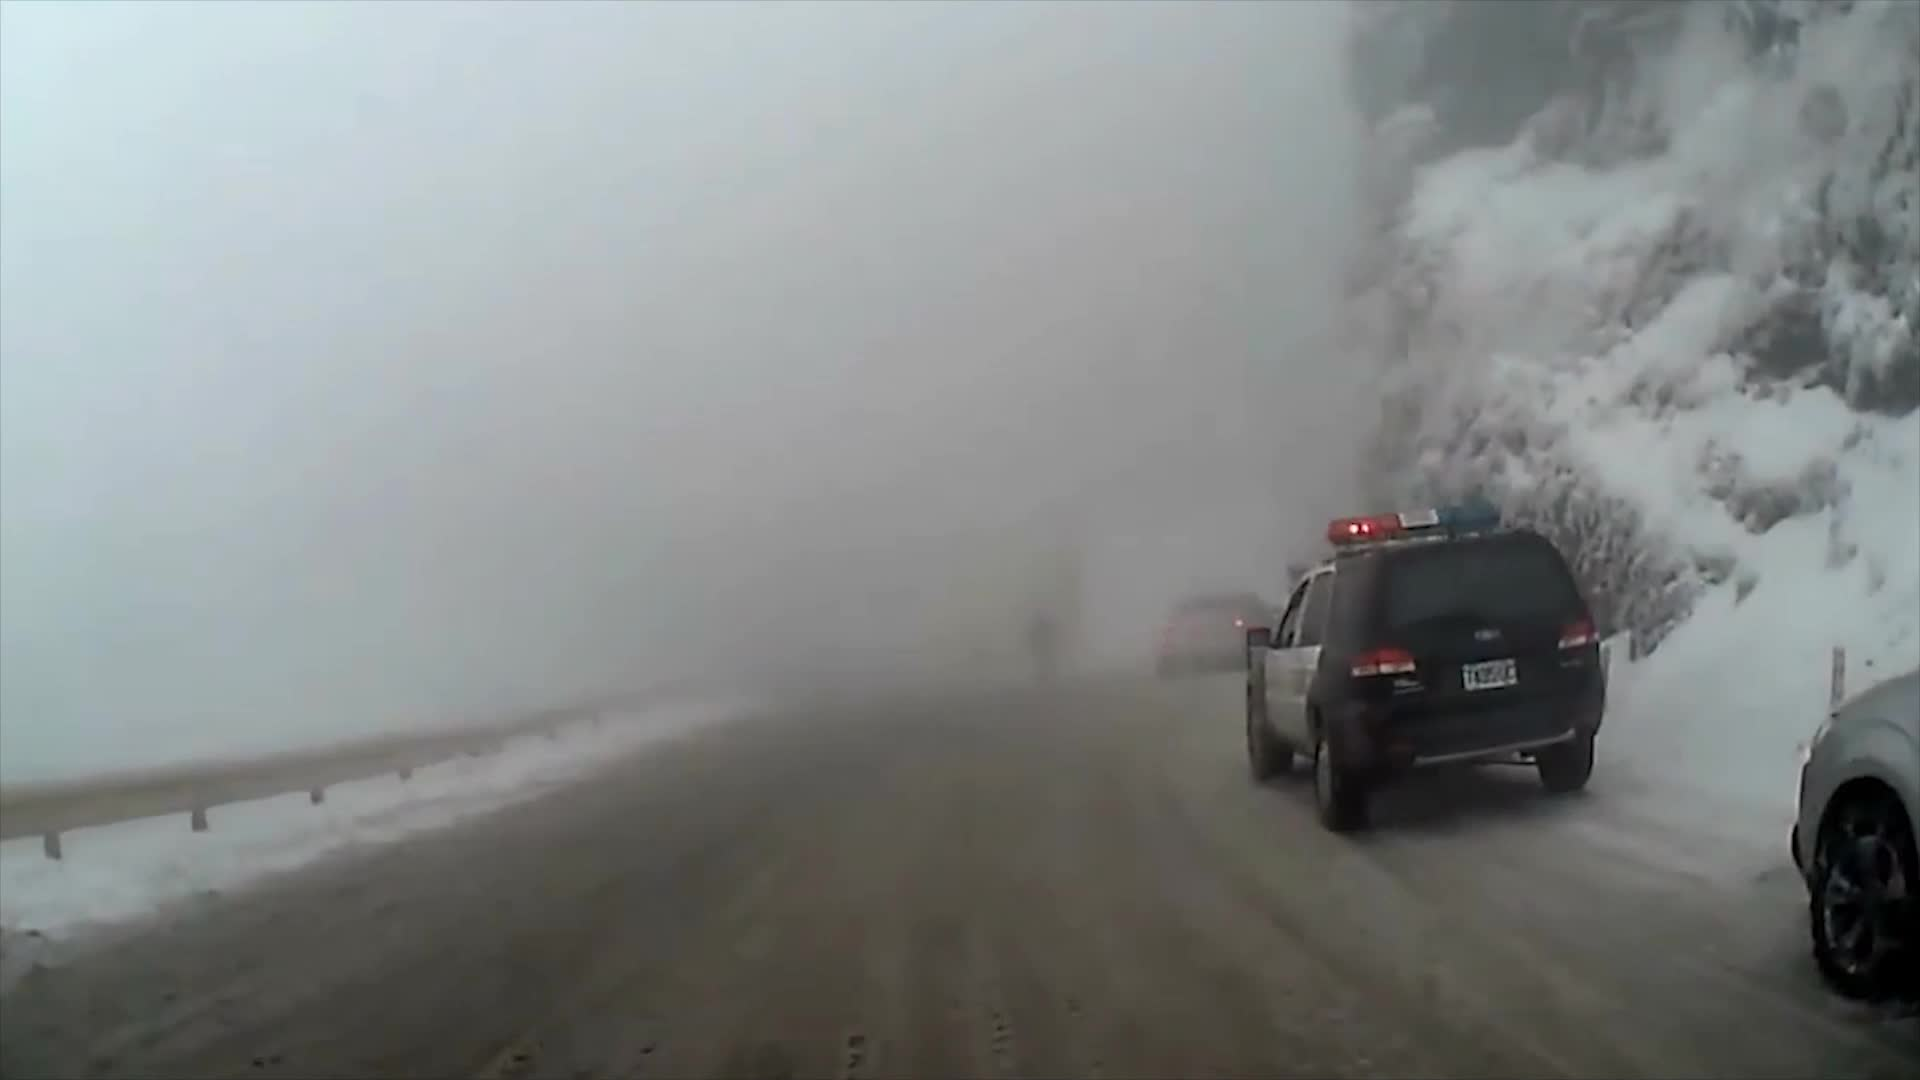vehicle: (1240, 500, 1606, 839), (1784, 671, 1920, 1000), (1154, 588, 1276, 678)
